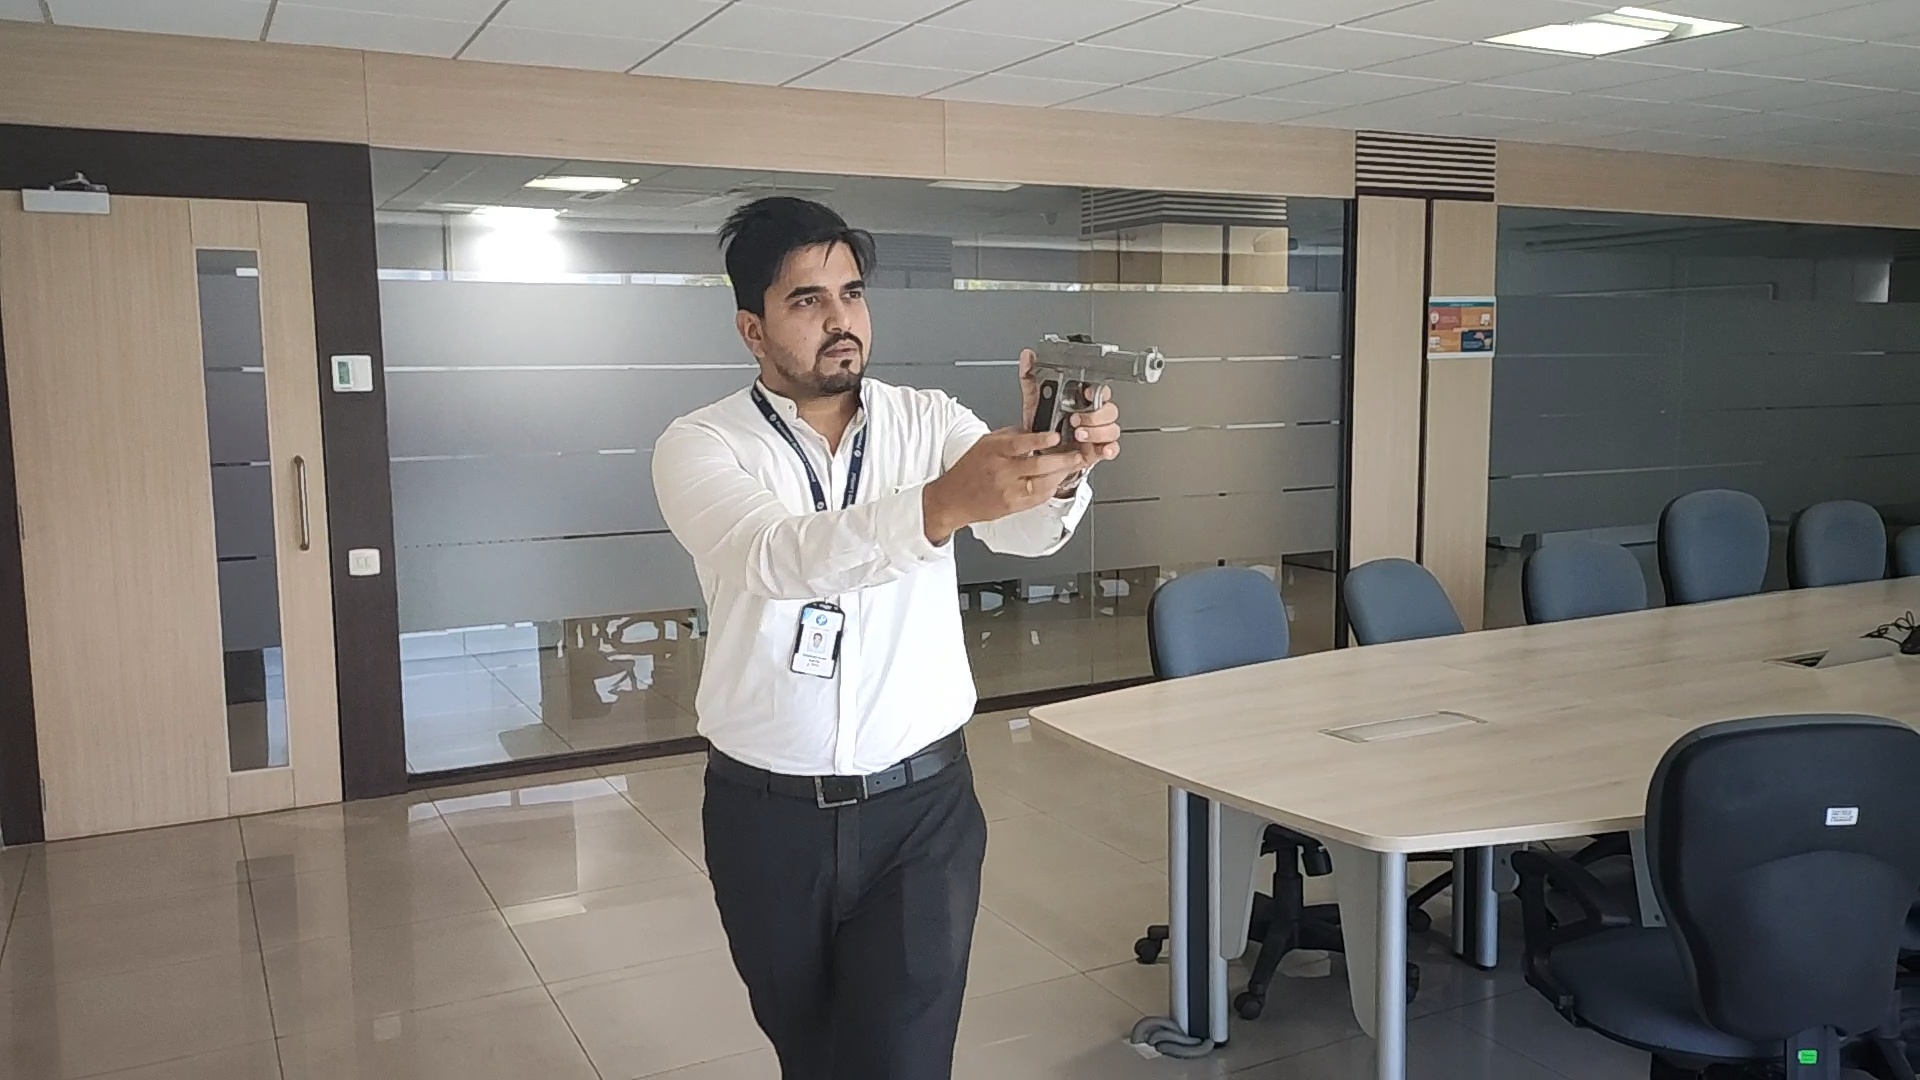gun: (1021, 330, 1167, 447)
